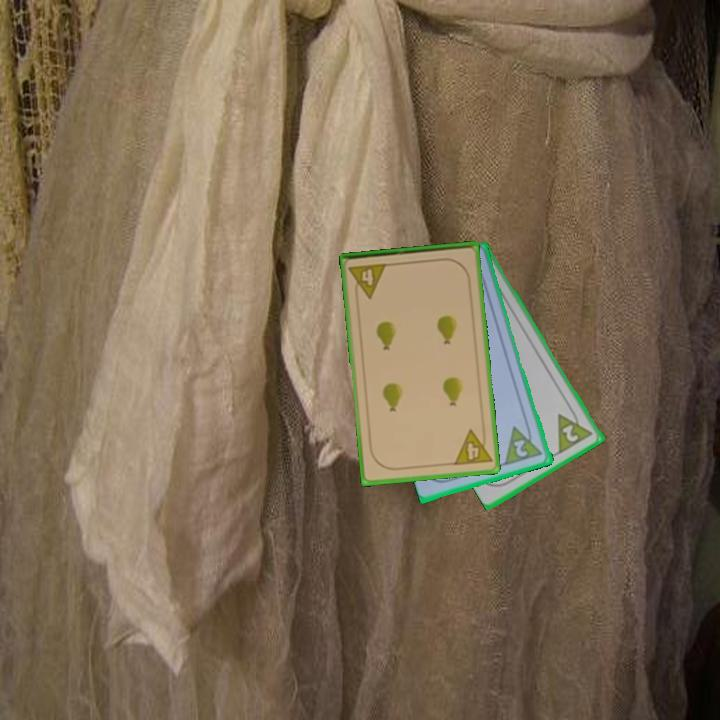2p: (554, 404, 597, 456), (510, 436, 531, 460)
4p: (450, 425, 495, 468), (346, 260, 390, 302)
